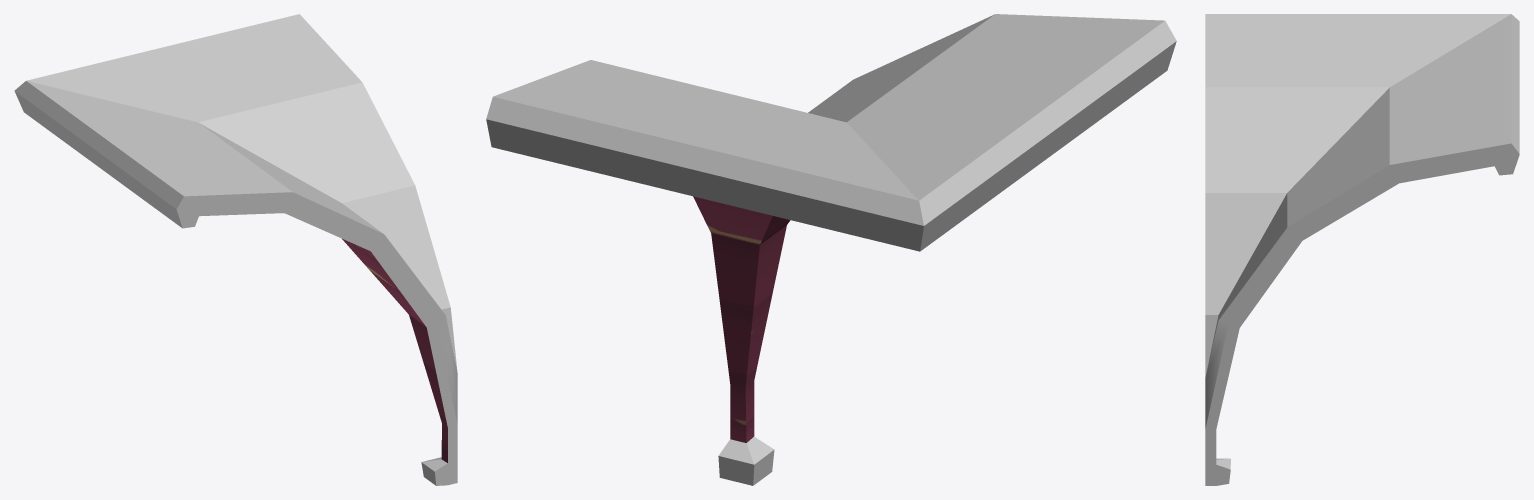
File: SM_Bld_Roof_Convex_Corner_In_01.fbx
3 renders of one model, left to right at view 1: azimuth 30°, elevation 25°; view 2: azimuth 150°, elevation 25°; view 3: azimuth 270°, elevation 25°, orthographic. The views are drawn at different scales.
Visible parts, largest first — view 1: SM_Bld_Roof_Convex_Corner_In_01; view 2: SM_Bld_Roof_Convex_Corner_In_01; view 3: SM_Bld_Roof_Convex_Corner_In_01.
Boxes of the visible parts, x1=… form: SM_Bld_Roof_Convex_Corner_In_01: x1=14, y1=14, x2=457, y2=485; SM_Bld_Roof_Convex_Corner_In_01: x1=486, y1=14, x2=1176, y2=485; SM_Bld_Roof_Convex_Corner_In_01: x1=1205, y1=14, x2=1519, y2=485.
Bounding box in the file's own units: 257 × 309 × 257.
